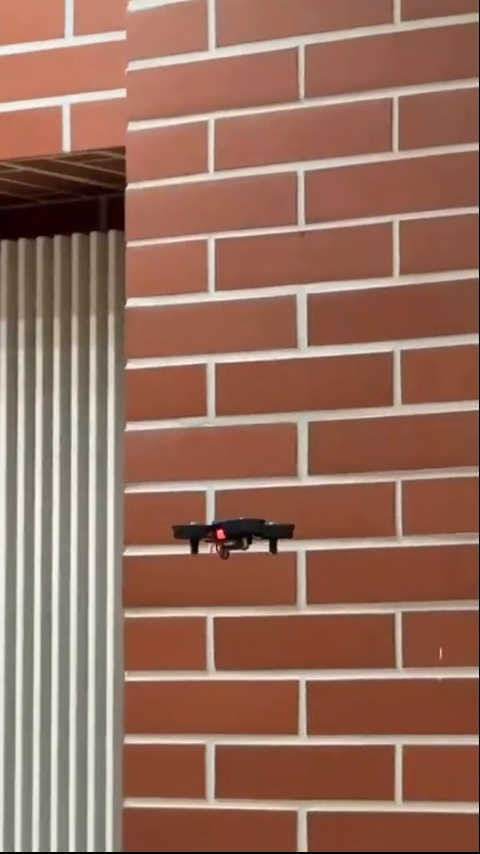drone: (172, 513, 304, 562)
